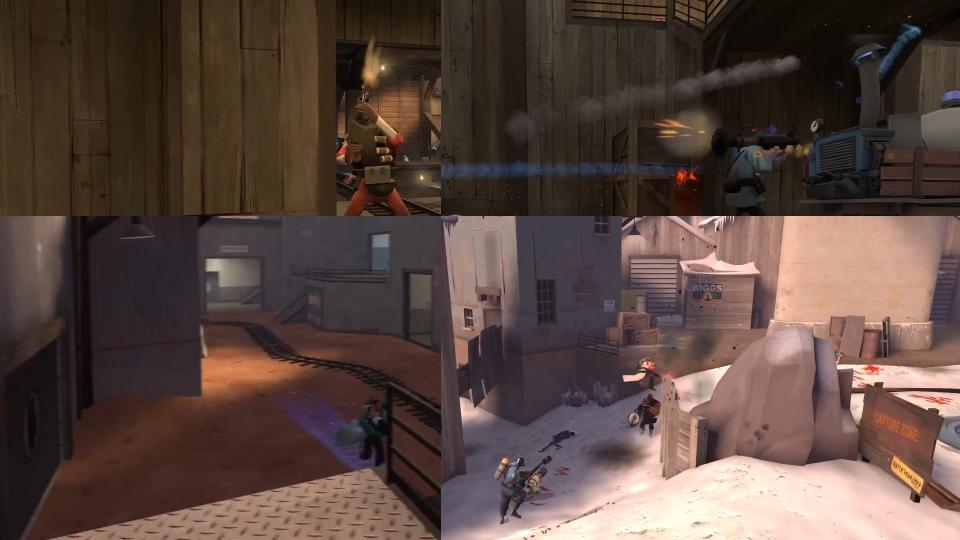Enemy: (333, 88, 413, 216), (714, 131, 790, 216), (487, 455, 552, 527), (334, 397, 387, 467), (628, 391, 662, 440), (622, 356, 660, 390), (427, 116, 441, 201)
